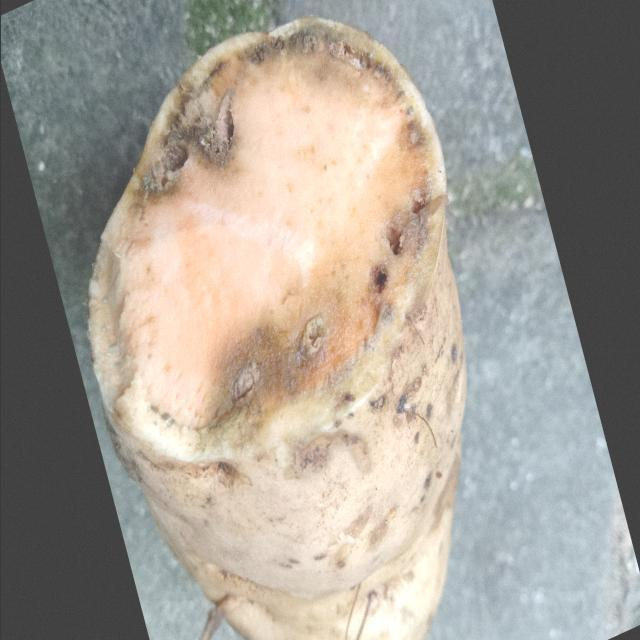Sick Sweet Potato_Tuber Rot: (89, 18, 446, 430)
